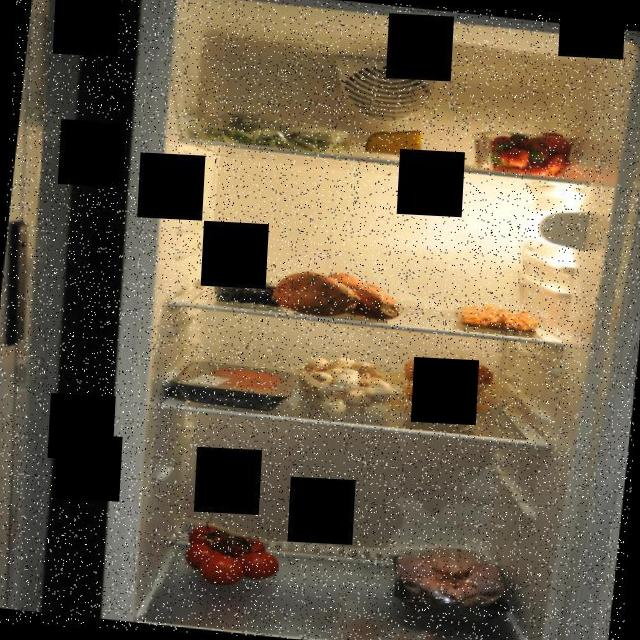Carne pollo: (386, 538, 520, 630)
Carne vacuno: (186, 357, 290, 410)
Cebolla: (401, 353, 492, 410)
Champiñones: (285, 348, 409, 425)
Gambas/Langostinos: (448, 301, 542, 339)
Queso: (362, 122, 428, 162)
Tomate: (180, 520, 287, 594)
blueberries: (211, 274, 286, 310)
green_beans: (190, 101, 360, 161)
strawberries: (469, 124, 580, 185)
sweet_potato: (262, 261, 414, 330)
